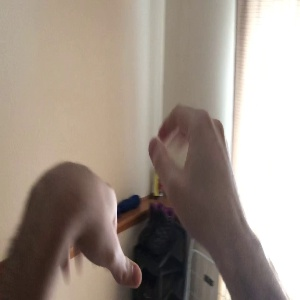hand: (35, 162, 144, 287), (149, 106, 249, 239)
